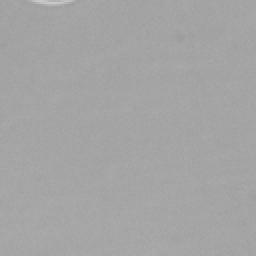picoshell: (30, 0, 74, 4)
